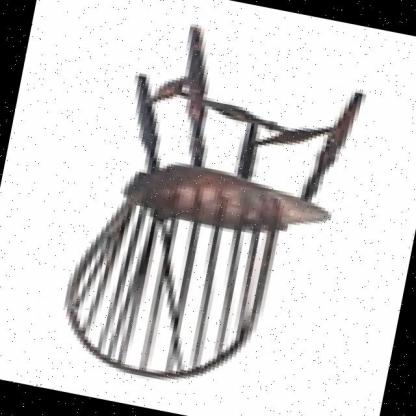Chair: (31, 10, 399, 416)
